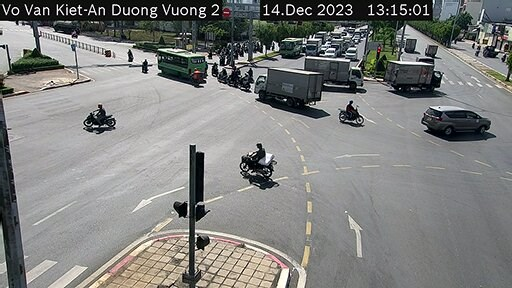bus: (154, 43, 208, 90)
car: (422, 104, 492, 149)
motorbike: (244, 145, 275, 181), (83, 104, 114, 128), (340, 101, 362, 131)
truck: (258, 66, 321, 109), (308, 54, 364, 84), (389, 60, 440, 90), (276, 35, 300, 63), (304, 39, 320, 57), (423, 41, 439, 57), (408, 36, 420, 57)
